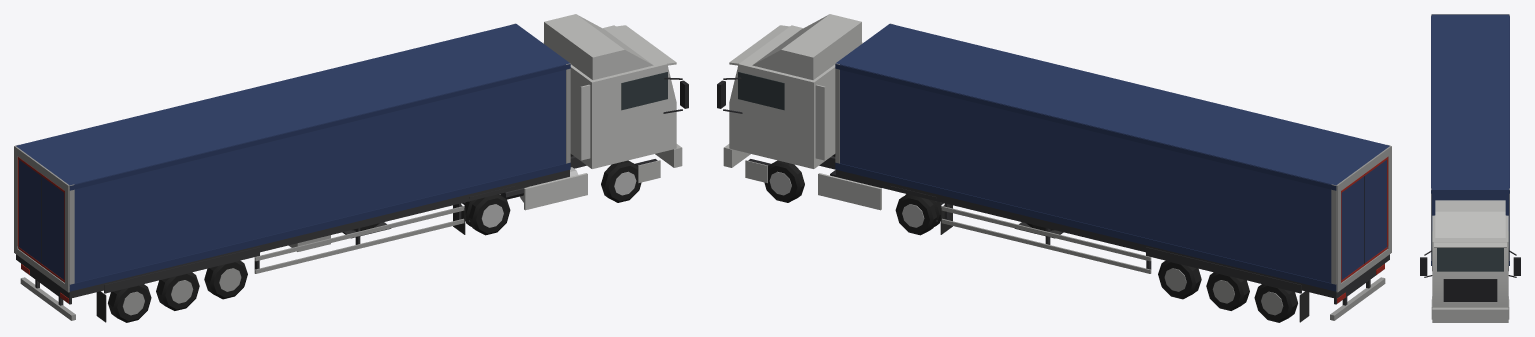
File: SM_Prop_services_lorry_2_LOD1.glb
3 views of the same model, side by side, from view 1: azimuth 30°, elevation 25°; view 2: azimuth 150°, elevation 25°; view 3: azimuth 270°, elevation 25° (orthographic). The views are drawn at different scales.
Parts seen in each view (by area): view 1: SM_Prop_services_lorry_2_LOD1; view 2: SM_Prop_services_lorry_2_LOD1; view 3: SM_Prop_services_lorry_2_LOD1.
Part boxes in pixels (x1,y1,x2,y2): SM_Prop_services_lorry_2_LOD1: (14,14,688,322); SM_Prop_services_lorry_2_LOD1: (717,14,1391,322); SM_Prop_services_lorry_2_LOD1: (1420,14,1520,322).
Size of the model in its own units: 16.69 by 3.97 by 3.3.
